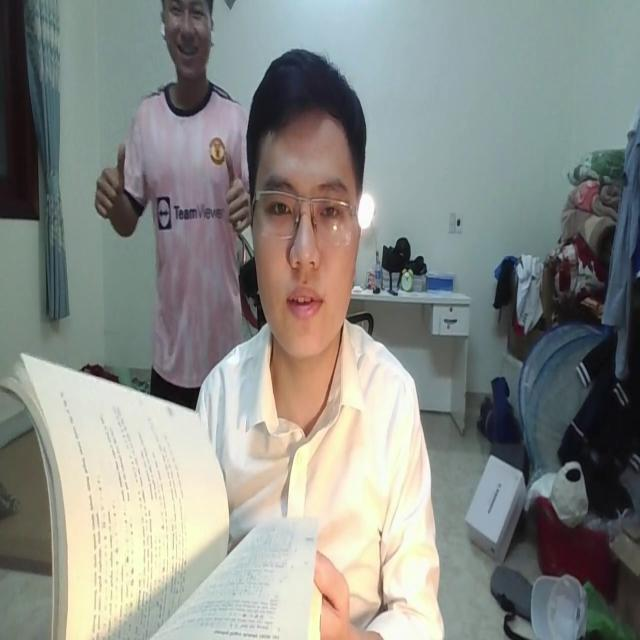book: (13, 346, 320, 640)
extra_person: (90, 0, 256, 425)
student: (207, 48, 437, 640)
